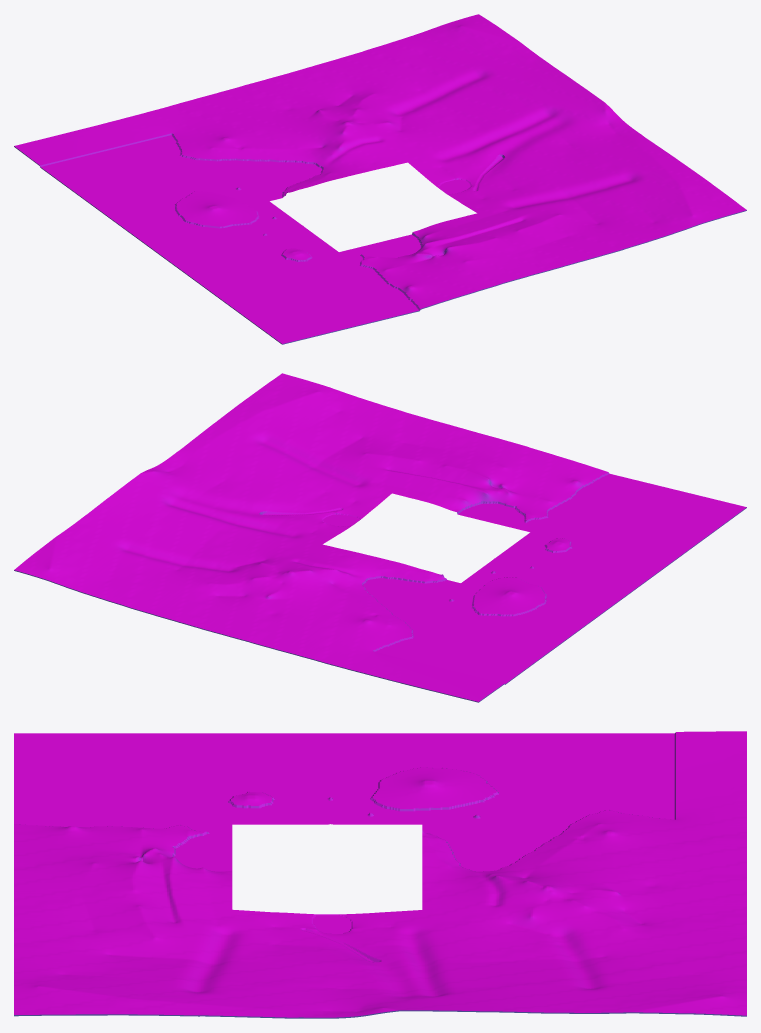
The model's file is ground_ring.fbx.
3 views of the same model, one above another, from view 1: azimuth 30°, elevation 25°; view 2: azimuth 150°, elevation 25°; view 3: azimuth 270°, elevation 25° (orthographic). The views are drawn at different scales.
Visible parts, largest first — view 1: ground_ring; view 2: ground_ring; view 3: ground_ring.
Part boxes in pixels (bbox=[...]): ground_ring: bbox=[14, 14, 746, 344]; ground_ring: bbox=[14, 373, 746, 702]; ground_ring: bbox=[14, 731, 746, 1018].
Size of the model in its own units: 3102 by 159 by 3102.
